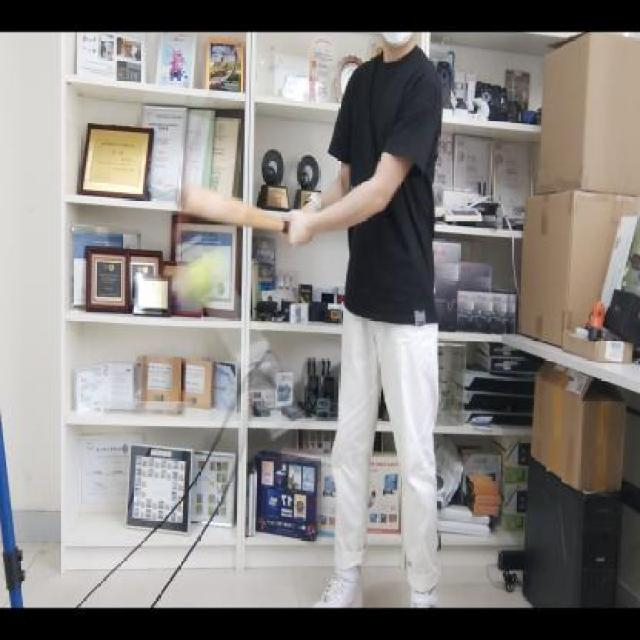baseball: (173, 250, 224, 308)
